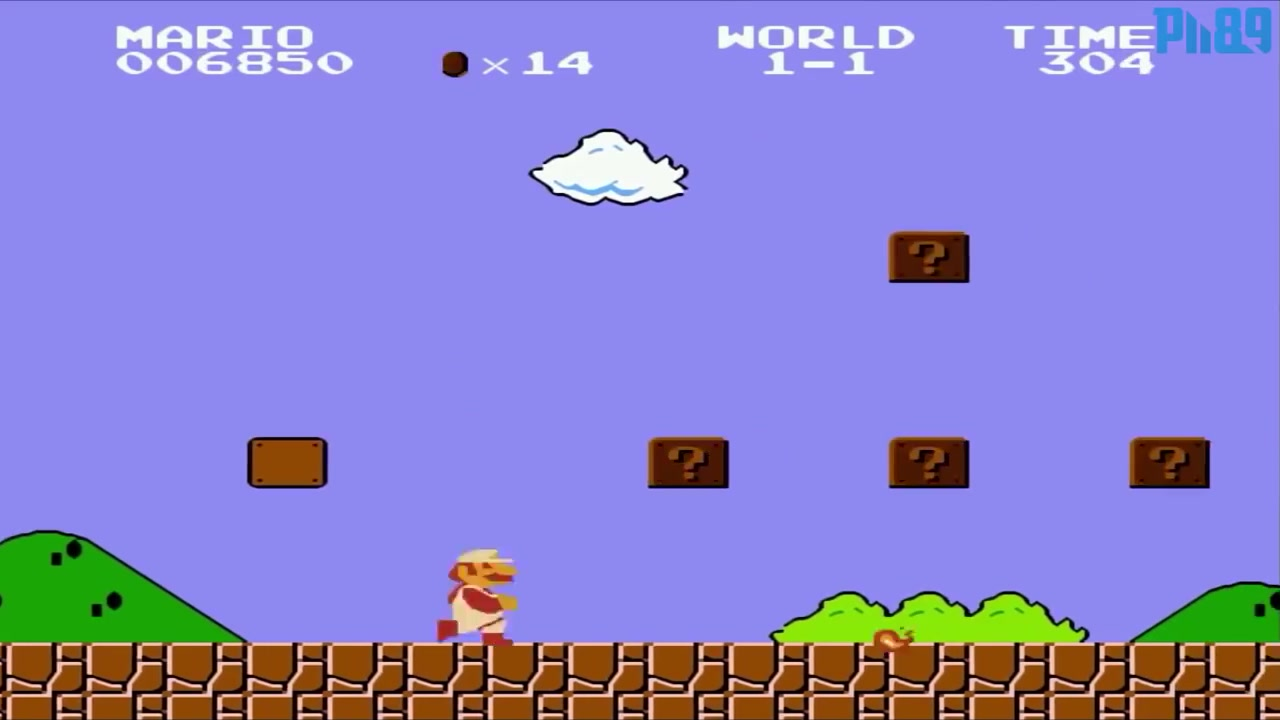mario: (429, 545, 527, 647)
